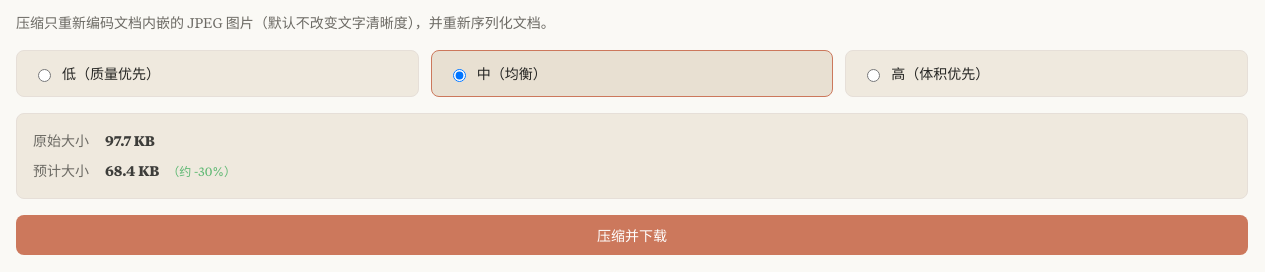
Test: PdfToolCompress › switches levels and updates the estimate
The image size is (1265, 272).
Click the text "高（体积优先）" at (940, 74), box [891, 63, 989, 84]
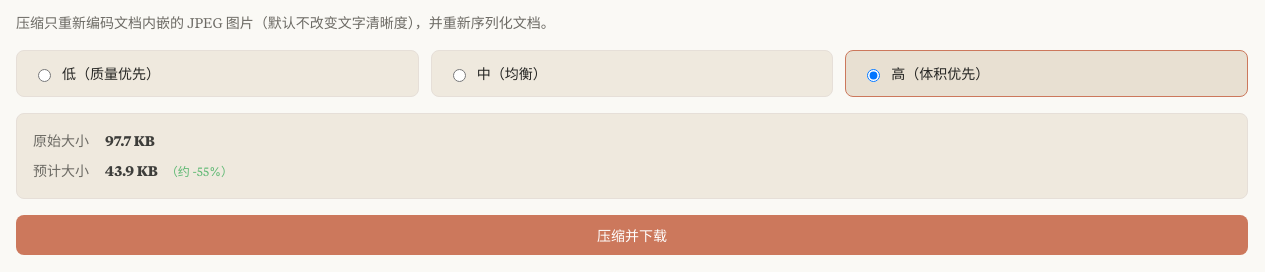
Result: the text "（约 -55%）" is shown at [166, 162, 233, 181]
